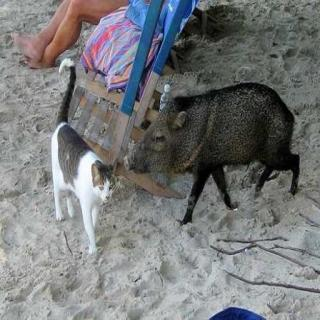Pig: (125, 80, 318, 220)
